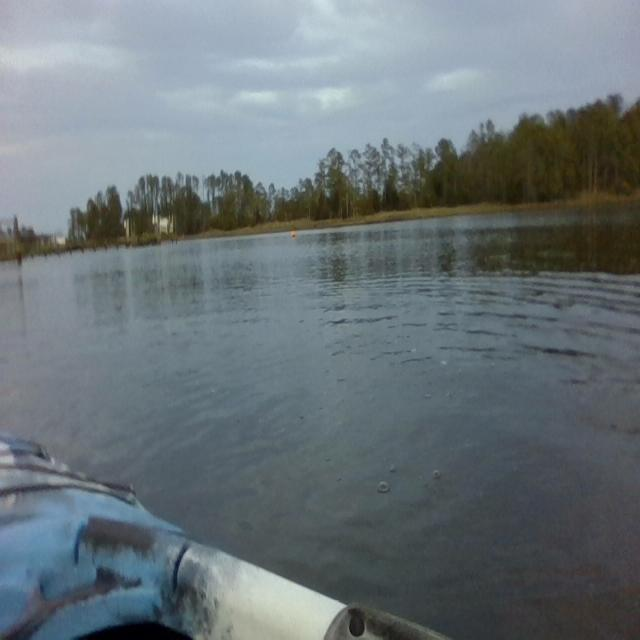Buoy: (290, 228, 296, 240)
